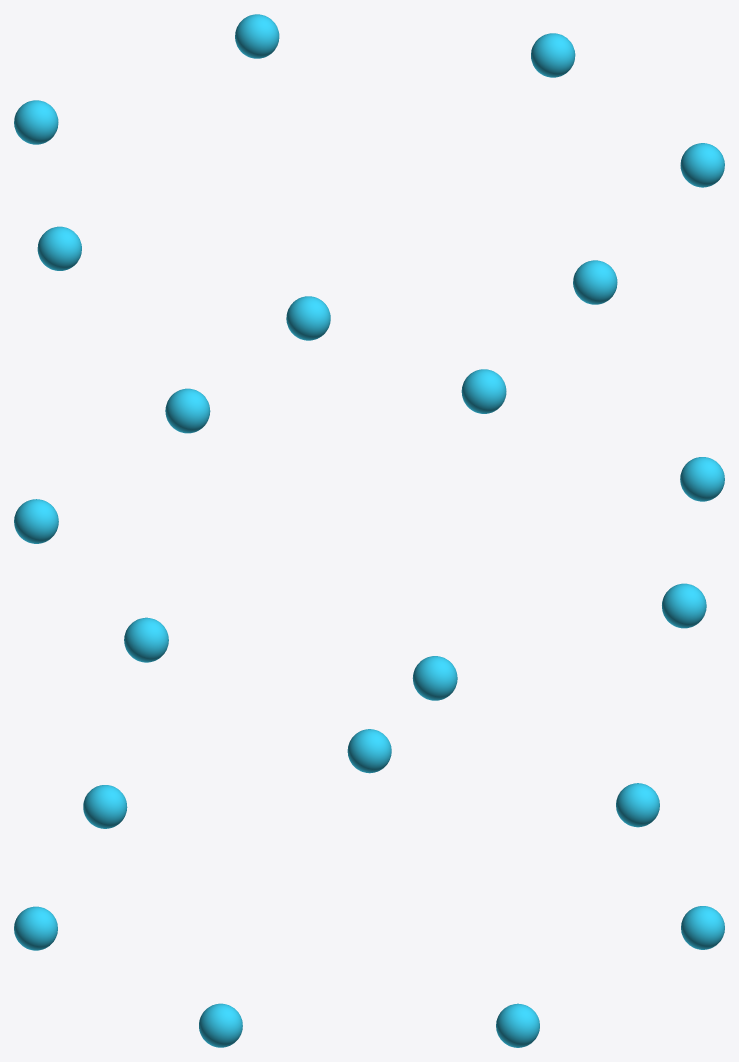
3 renders of one model, top to bottom at view 1: azimuth 30°, elevation 25°; view 2: azimuth 150°, elevation 25°; view 3: azimuth 270°, elevation 25°, orthographic.
Parts seen in each view (by area): view 1: Sphere048; view 2: Sphere048; view 3: Sphere048.
Boxes of the visible parts, box(x1,y1,x2,y2) form: Sphere048: box(14, 14, 724, 340); Sphere048: box(14, 369, 724, 700); Sphere048: box(14, 729, 724, 1047).
Size of the model in its own units: 129 by 8.22 by 132.
